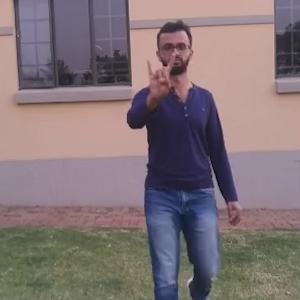takeoff-hand: (141, 50, 181, 100)
